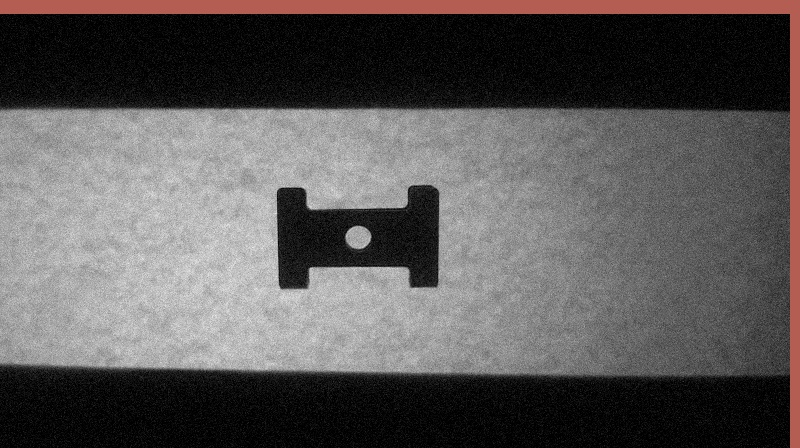O002: (269, 181, 442, 290)
